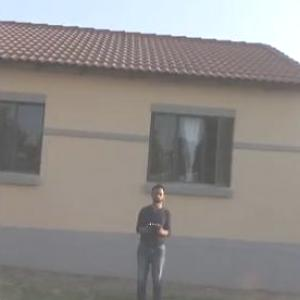follow: (129, 178, 175, 299)
